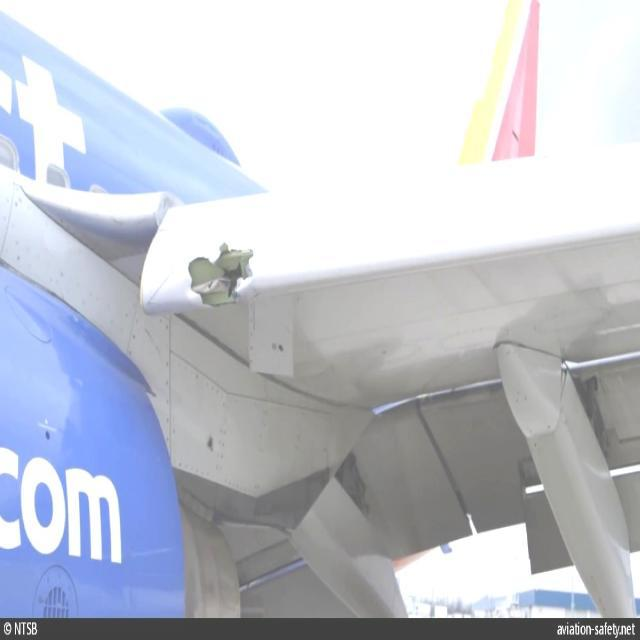crack: (190, 244, 255, 317)
